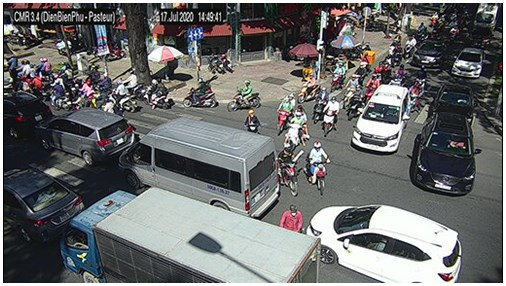xe_hoi: (306, 204, 462, 283), (3, 165, 85, 246), (411, 112, 481, 196), (36, 109, 136, 166), (4, 91, 52, 137), (431, 82, 474, 124), (450, 47, 485, 78), (413, 39, 449, 69)
xe_khach: (119, 118, 279, 218)
xe_may: (305, 141, 330, 194), (278, 143, 302, 196), (227, 80, 262, 111), (285, 106, 308, 149), (183, 79, 216, 108), (109, 80, 137, 112), (143, 79, 171, 109), (298, 73, 322, 103), (277, 94, 295, 133), (280, 204, 304, 233), (323, 97, 340, 136), (123, 70, 144, 99), (347, 86, 364, 120), (312, 87, 328, 123), (51, 81, 70, 110), (343, 75, 358, 110), (330, 61, 346, 92), (243, 109, 262, 134), (365, 73, 379, 101), (359, 51, 373, 78), (392, 64, 407, 86), (16, 60, 33, 79), (36, 57, 52, 77), (410, 80, 420, 112), (404, 38, 414, 60)
xe_tai: (59, 186, 321, 282), (474, 4, 499, 31)
xe_taxi: (350, 84, 410, 156)
